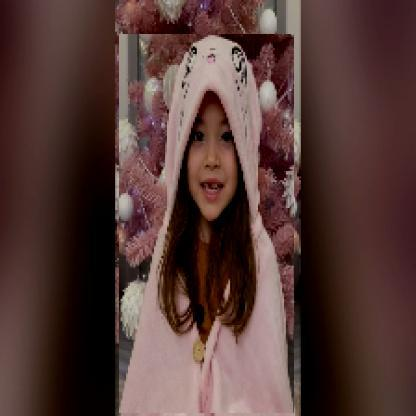child: (120, 35, 296, 415)
